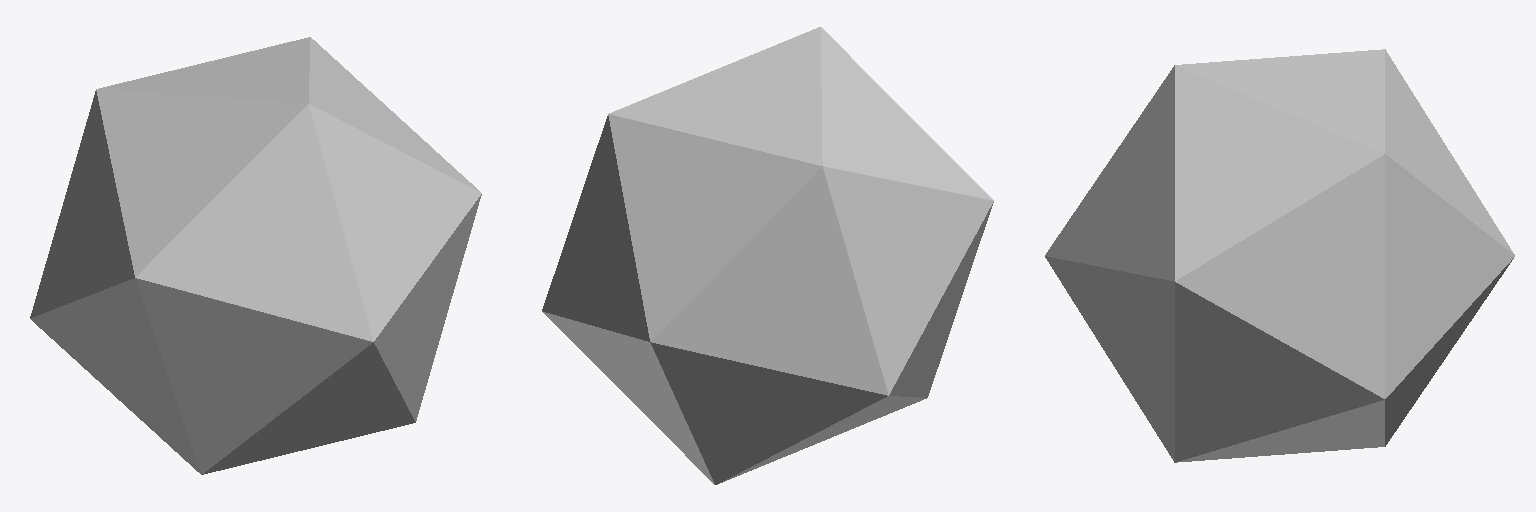
The model's file is icosahedron.obj.
3 views of the same model, side by side, from view 1: azimuth 30°, elevation 25°; view 2: azimuth 150°, elevation 25°; view 3: azimuth 270°, elevation 25° (orthographic).
Visible parts, largest first — view 1: Icosahedron; view 2: Icosahedron; view 3: Icosahedron.
Part boxes in pixels (left/top/right/bottom): Icosahedron: left=30, top=37, right=481, bottom=474; Icosahedron: left=542, top=27, right=993, bottom=484; Icosahedron: left=1045, top=49, right=1514, bottom=462.
Size of the model in its own units: 10 by 10.51 by 11.76.